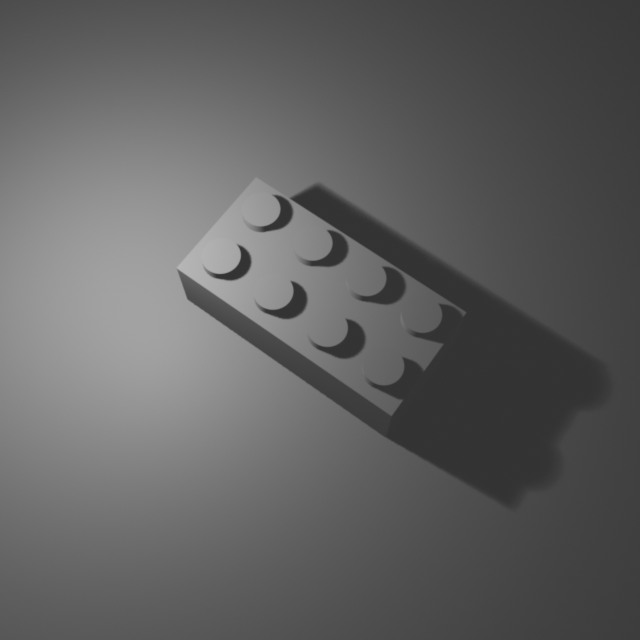lego_2x4: (175, 170, 469, 438)
